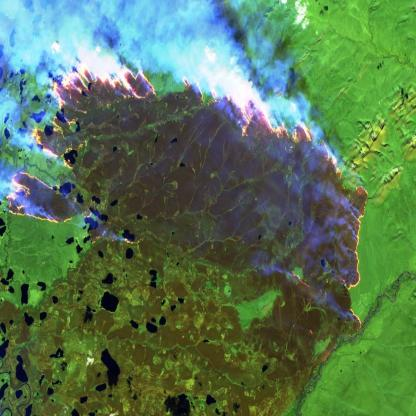fire: (0, 36, 416, 342)
